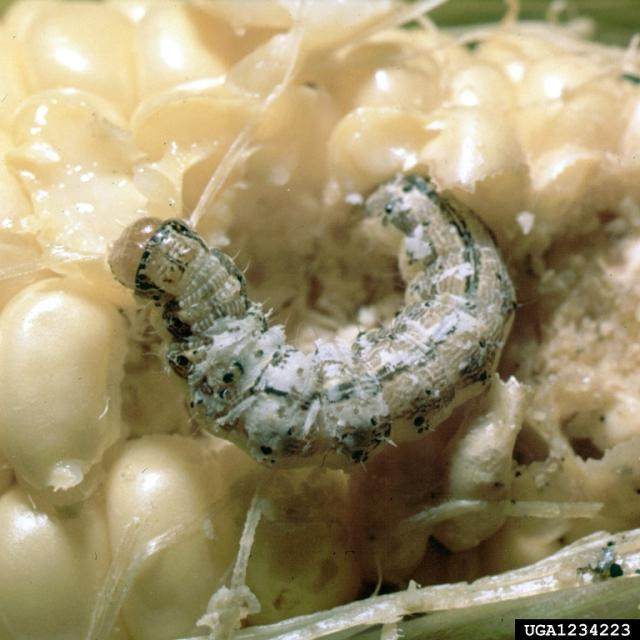Corn-earworm: (110, 178, 516, 465)
